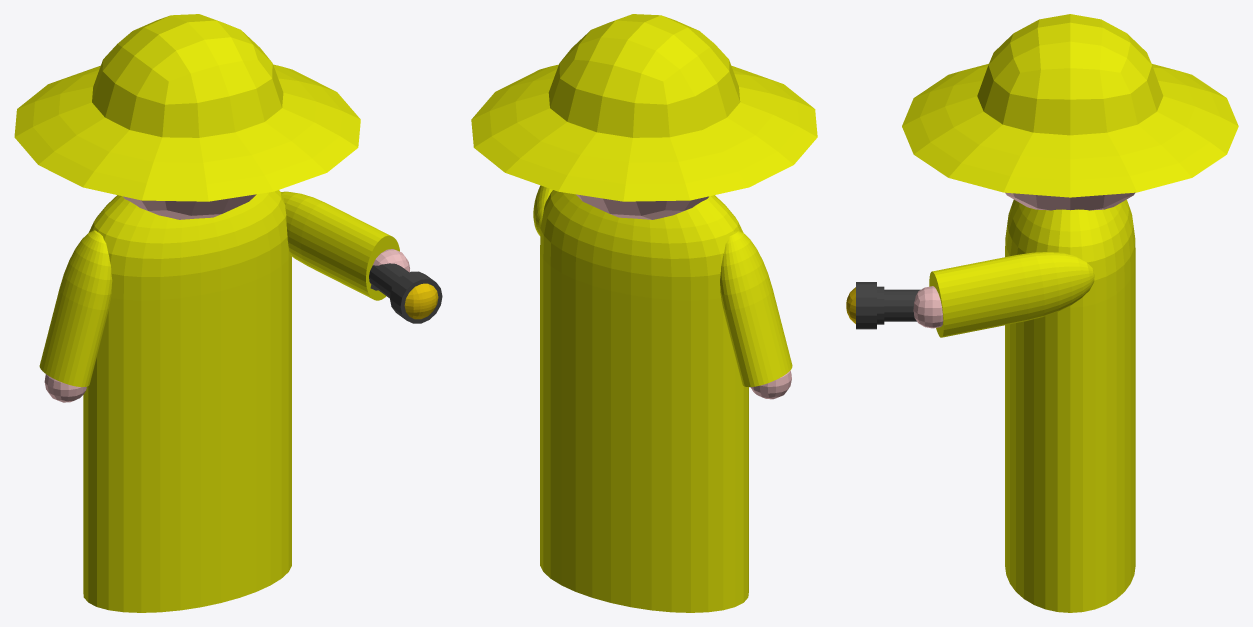
The model's file is Researcher.fbx.
The picture shows the model from 3 angles, left to right: view 1: azimuth 30°, elevation 25°; view 2: azimuth 150°, elevation 25°; view 3: azimuth 270°, elevation 25°; orthographic projection. The views are drawn at different scales.
Parts seen in each view (by area): view 1: Cube.002, Cylinder.003, Cube; view 2: Cube.002, Cube; view 3: Cube.002, Cube, Cylinder.003.
Part boxes in pixels (box(x1,y1,x2,y2)): Cube.002: box(14, 14, 399, 612); Cylinder.003: box(369, 263, 442, 323); Cube: box(44, 194, 409, 402); Cube.002: box(471, 14, 817, 612); Cube: box(576, 194, 791, 399); Cube.002: box(902, 14, 1238, 612); Cube: box(913, 192, 1135, 328); Cylinder.003: box(846, 282, 920, 329).
Bounding box in the file's own units: 146 × 259 × 170.
